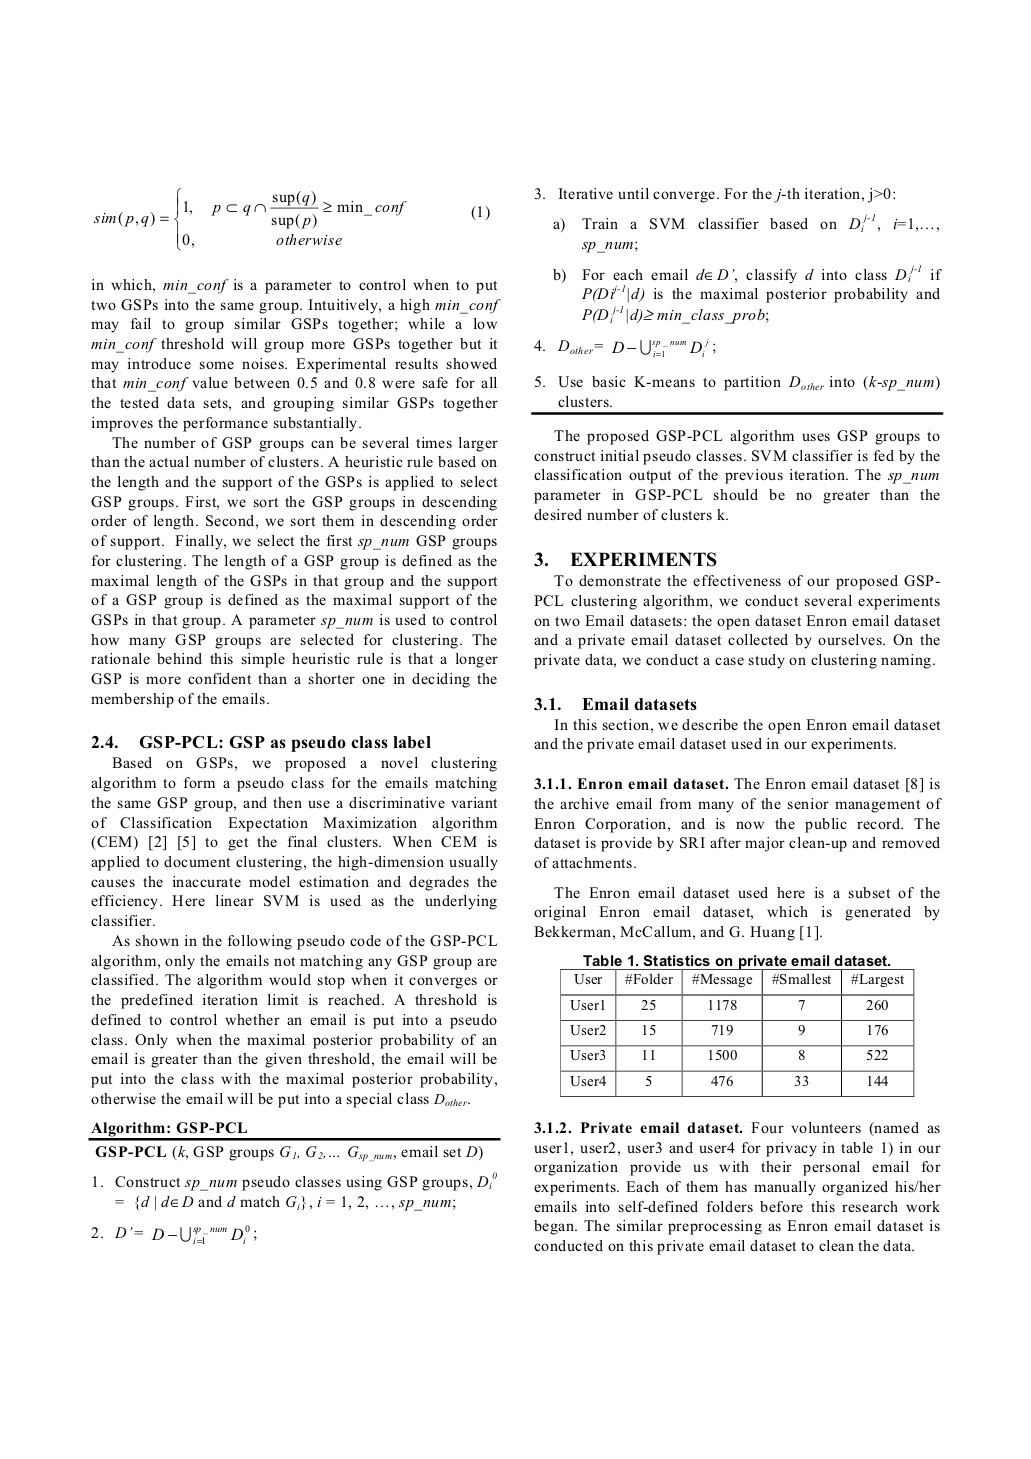Table: (560, 967, 914, 1096)
formula: (94, 187, 489, 251), (534, 338, 715, 357), (91, 1224, 256, 1244)
